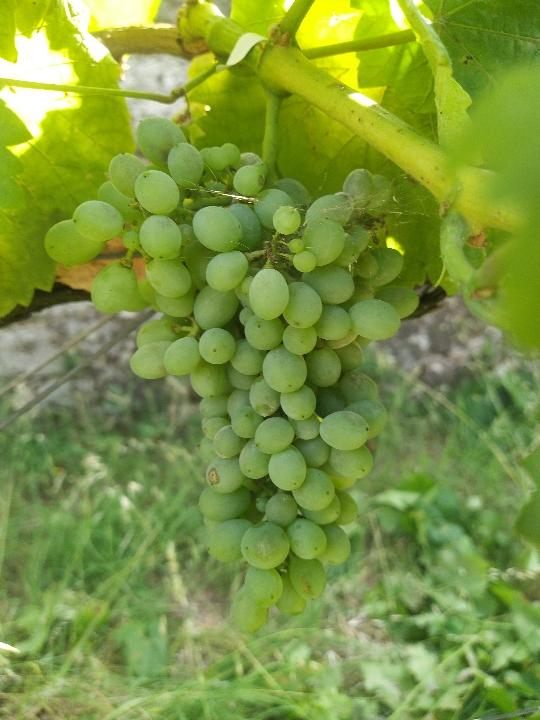grape: (37, 115, 417, 639)
